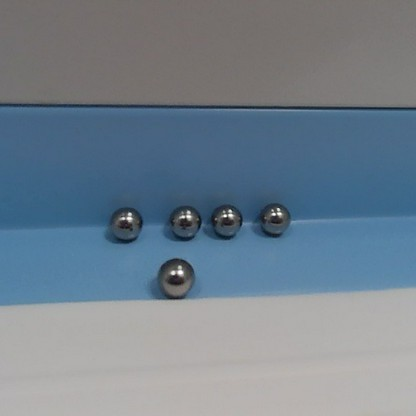ironball: (256, 200, 305, 240), (154, 256, 197, 299), (105, 205, 146, 245), (208, 200, 248, 237), (165, 205, 202, 241)
